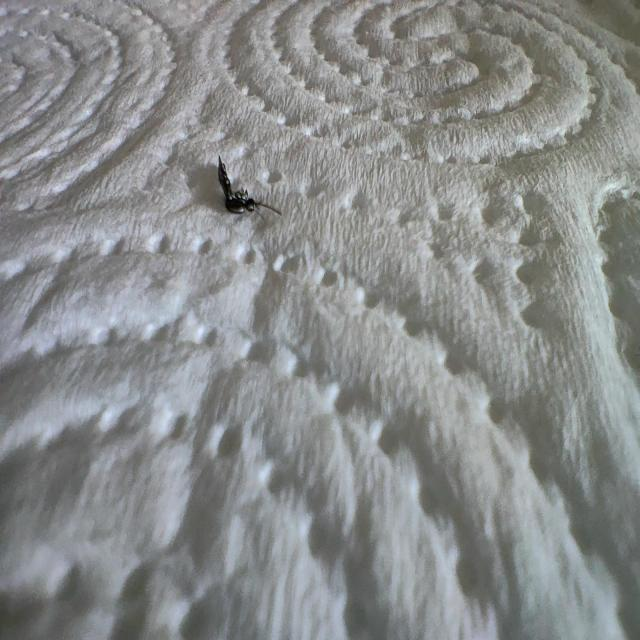albopictus: (209, 147, 285, 227)
